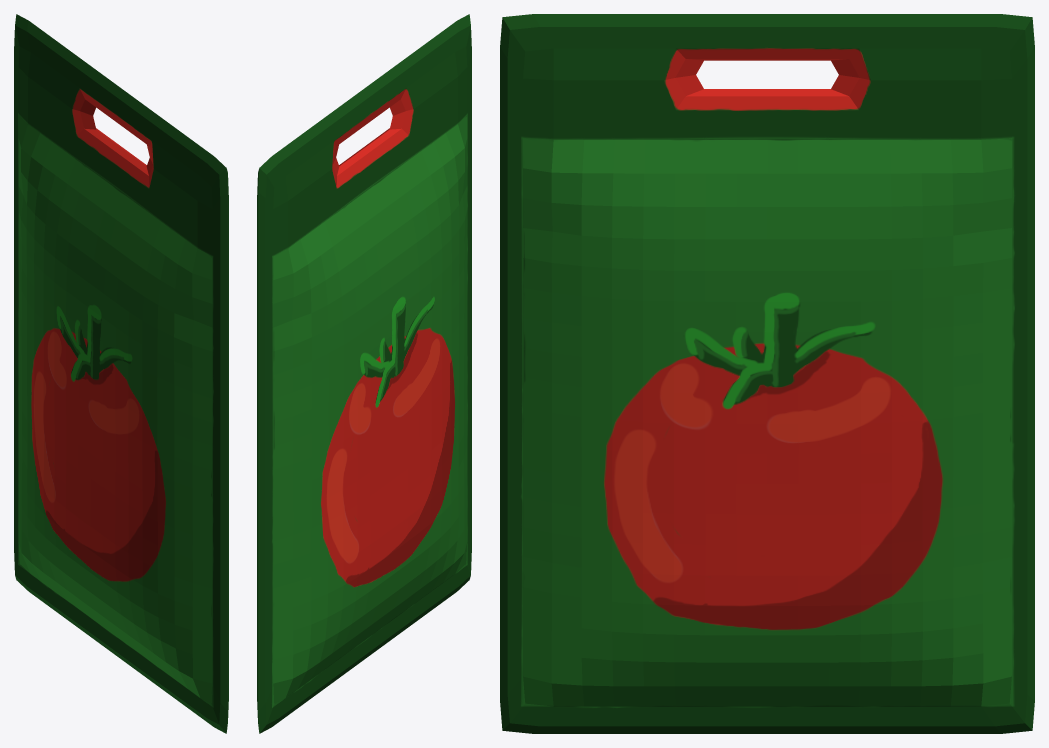
Rendered from Apple Seed.fbx.
The picture shows the model from 3 angles, left to right: view 1: azimuth 30°, elevation 25°; view 2: azimuth 150°, elevation 25°; view 3: azimuth 270°, elevation 25°; orthographic projection. The views are drawn at different scales.
Parts seen in each view (by area): view 1: Cube; view 2: Cube; view 3: Cube.
Boxes of the visible parts, x1,y1,x2,y2 form: Cube: [14, 14, 228, 733]; Cube: [257, 14, 471, 733]; Cube: [500, 14, 1034, 733].
Size of the model in its own units: 24.97 by 219 by 147.
